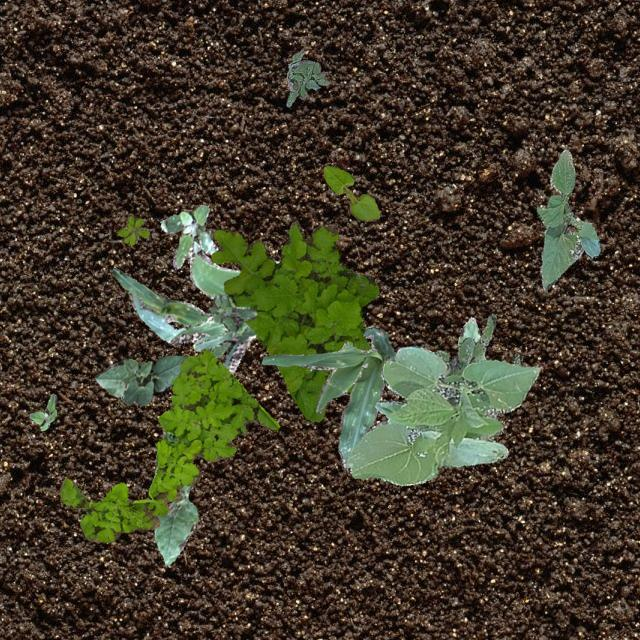crop: (344, 344, 540, 484), (260, 327, 394, 468), (132, 240, 256, 374), (536, 148, 600, 288), (110, 268, 212, 326), (152, 454, 196, 564), (94, 354, 186, 404), (322, 164, 378, 220), (456, 316, 484, 362), (162, 426, 178, 442)
weed: (59, 348, 278, 542), (210, 219, 378, 421), (434, 312, 522, 382), (160, 204, 217, 268), (286, 50, 328, 106), (208, 294, 255, 330), (28, 392, 56, 430), (116, 214, 148, 243), (210, 341, 230, 356)
